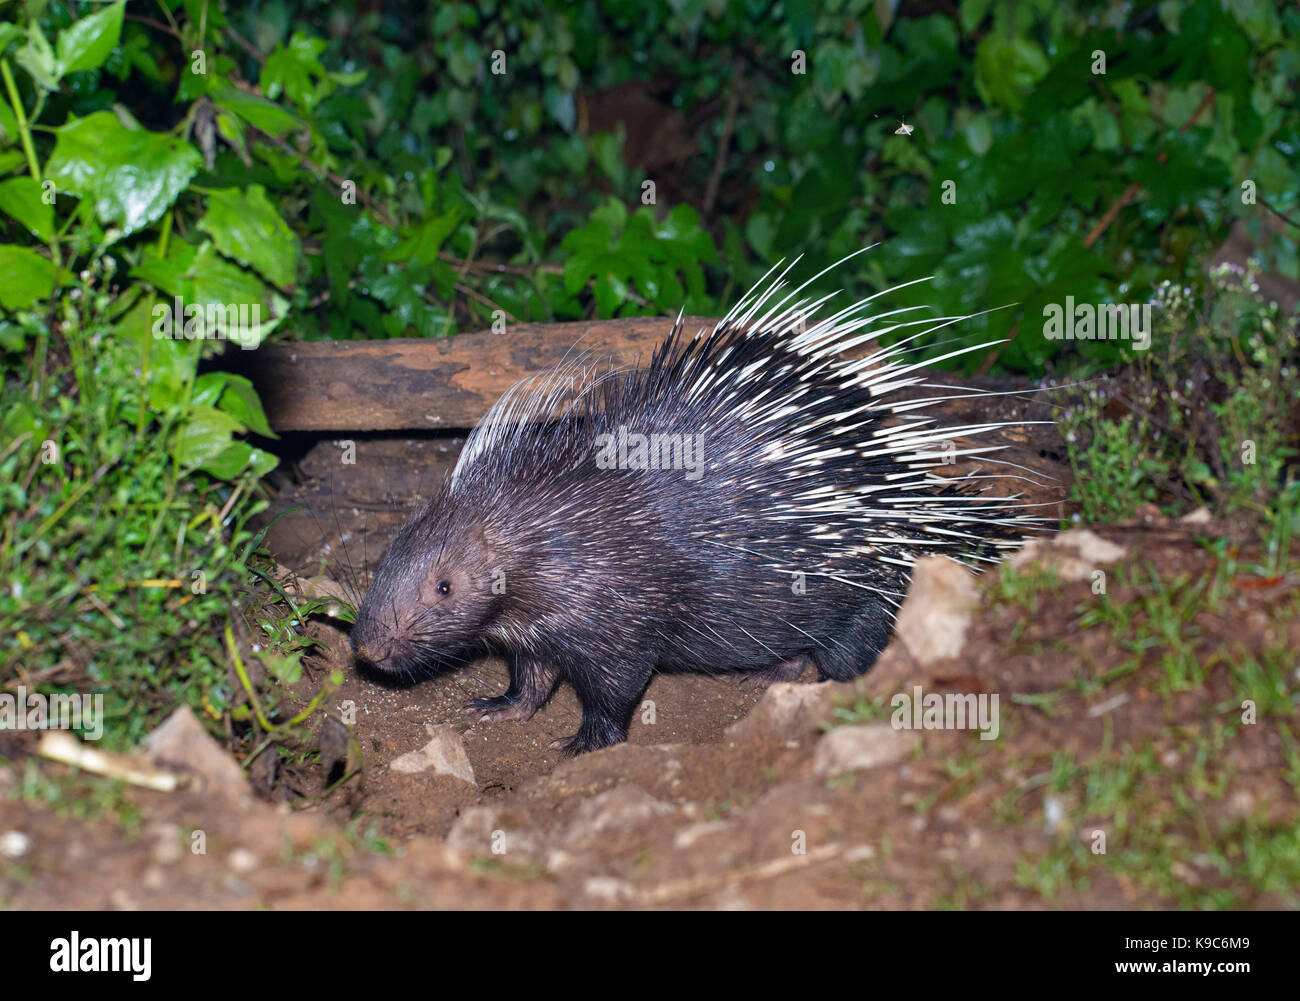porcupine: (354, 266, 1009, 795)
